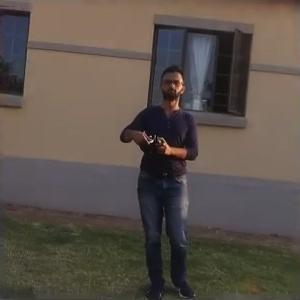follow: (114, 61, 204, 298)
